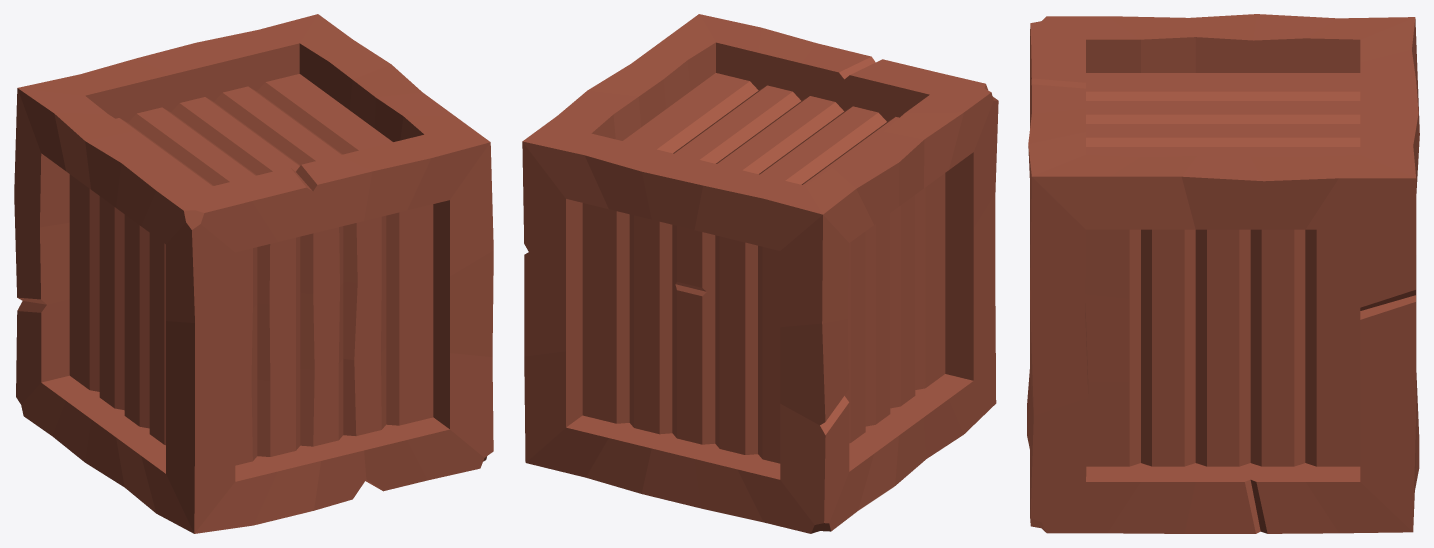
File: crate.fbx
3 renders of one model, left to right at view 1: azimuth 30°, elevation 25°; view 2: azimuth 150°, elevation 25°; view 3: azimuth 270°, elevation 25°, orthographic. The views are drawn at different scales.
Parts seen in each view (by area): view 1: crate; view 2: crate; view 3: crate.
Boxes of the visible parts, <box> form: crate: <box>14,14,493,533</box>; crate: <box>522,14,998,533</box>; crate: <box>1027,14,1419,533</box>.
Bounding box in the file's own units: 100 × 100 × 100.
1 material, 1 textured.
